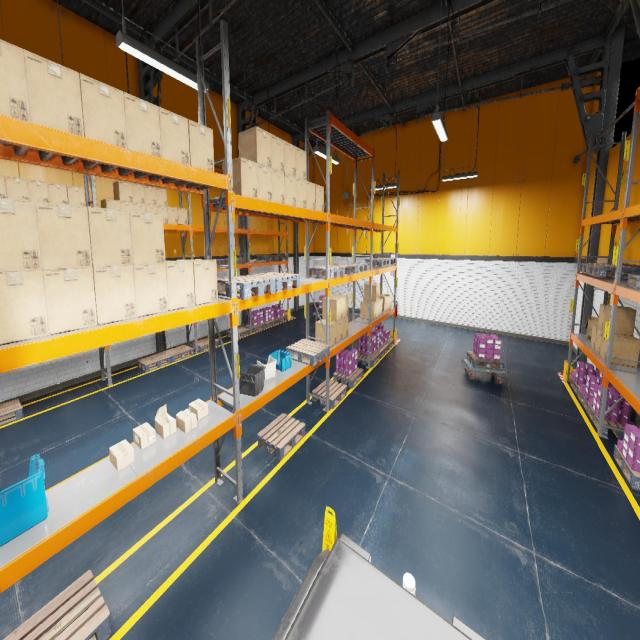box: (24, 49, 84, 136), (35, 202, 92, 270), (0, 270, 49, 345), (43, 267, 97, 335), (80, 73, 128, 148), (0, 198, 42, 272), (87, 206, 133, 266), (92, 265, 136, 325), (0, 39, 31, 122), (124, 91, 162, 158), (130, 210, 166, 264), (133, 263, 168, 317), (159, 106, 190, 164), (180, 259, 218, 305), (222, 157, 258, 199), (166, 260, 194, 311), (600, 332, 640, 367), (238, 126, 271, 168), (188, 119, 214, 172), (597, 304, 636, 336), (595, 328, 631, 356), (109, 439, 134, 471), (155, 404, 176, 439), (132, 422, 156, 449), (5, 176, 29, 200), (257, 164, 272, 202), (316, 319, 336, 347), (176, 408, 197, 433), (322, 296, 343, 321), (28, 179, 50, 202), (272, 134, 284, 172), (48, 182, 68, 204), (330, 294, 348, 318), (284, 140, 296, 176), (272, 169, 284, 204), (113, 181, 133, 202), (189, 398, 208, 420), (67, 185, 85, 206), (285, 173, 296, 206), (296, 147, 306, 180), (585, 316, 598, 341), (360, 300, 376, 320), (296, 177, 306, 209), (364, 283, 380, 302), (306, 181, 316, 210), (132, 183, 145, 203), (366, 300, 379, 318), (316, 184, 324, 212), (144, 186, 156, 204), (156, 187, 167, 206), (590, 325, 598, 351), (167, 206, 178, 224), (157, 205, 168, 223), (380, 294, 392, 310), (101, 199, 120, 209), (178, 208, 188, 225), (0, 175, 7, 198), (224, 278, 237, 290), (133, 202, 145, 212), (120, 201, 133, 210), (343, 316, 348, 339), (337, 319, 342, 342), (145, 204, 157, 213), (379, 298, 382, 315)
forklift: (272, 533, 486, 639)
pallets: (3, 570, 111, 639), (257, 413, 305, 460), (587, 404, 639, 440), (218, 276, 276, 299), (613, 445, 640, 491), (286, 338, 330, 366), (247, 272, 300, 292), (312, 379, 347, 409), (466, 351, 504, 370), (588, 265, 640, 278), (138, 352, 171, 372), (334, 368, 364, 388), (0, 399, 23, 425), (163, 345, 194, 362), (578, 263, 622, 273), (309, 266, 345, 278), (322, 264, 357, 275), (357, 351, 381, 367), (192, 338, 219, 352), (227, 326, 250, 338), (578, 388, 589, 413), (343, 262, 368, 272), (626, 274, 640, 290), (570, 376, 580, 396), (365, 258, 390, 266), (245, 323, 266, 332), (376, 344, 388, 358), (203, 258, 228, 264), (376, 258, 396, 265), (383, 338, 394, 350), (223, 258, 245, 264), (263, 319, 277, 328), (274, 315, 287, 324), (256, 256, 276, 260), (270, 255, 286, 259), (316, 306, 322, 314)
